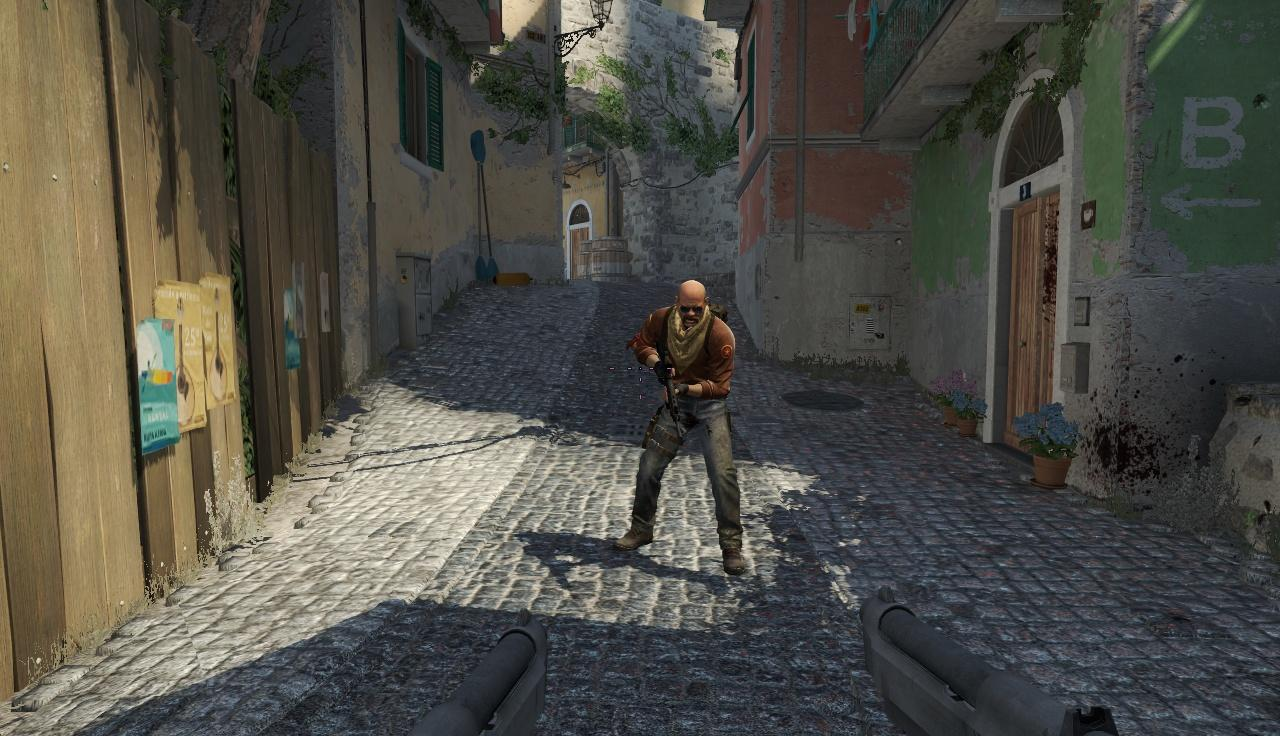pistol: (837, 583, 1134, 736)
tt: (626, 278, 732, 573)
tthead: (676, 279, 711, 323)
